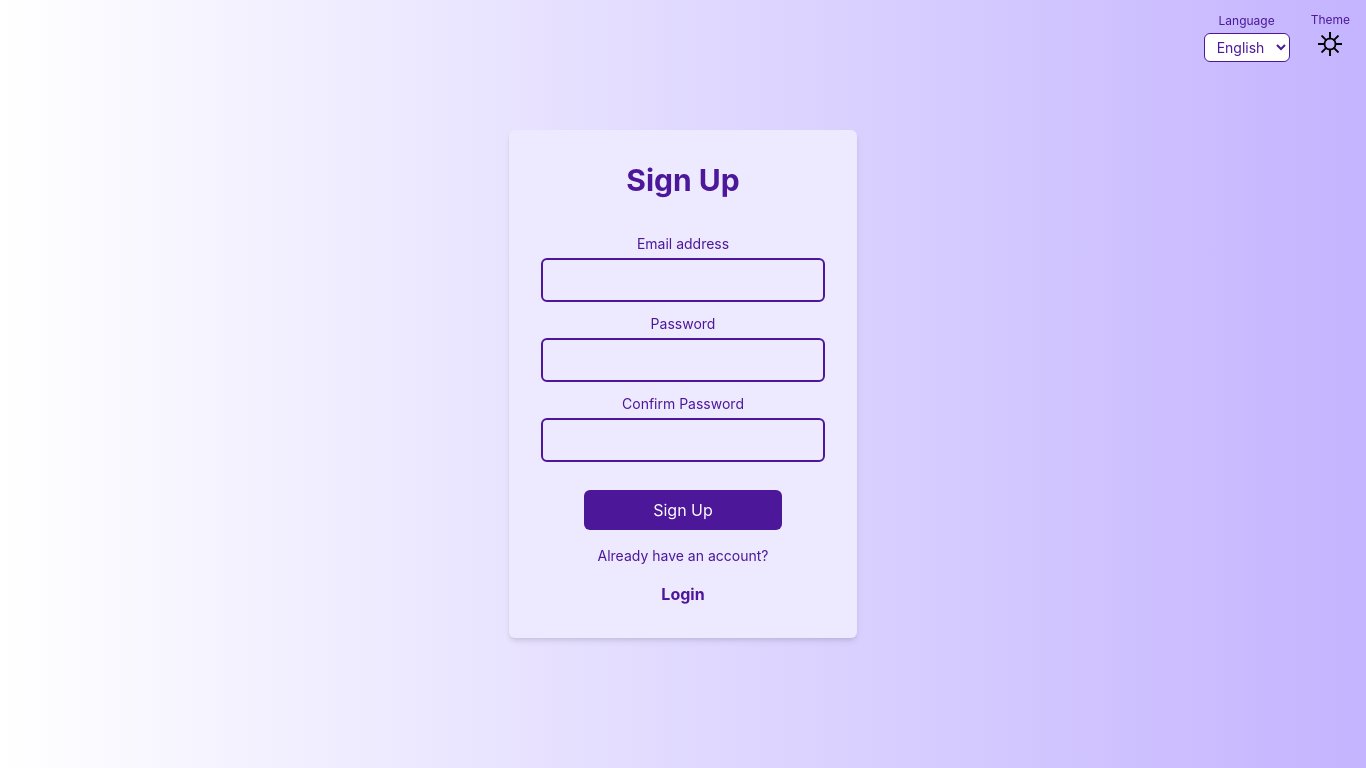
Test case: SignupPage tests › should display error when passwords do not match and button should be disabled
The width and height of the screenshot is (1366, 768).
Type "password123" into the password field labelled "Password" at (683, 360), box [541,338,825,382]
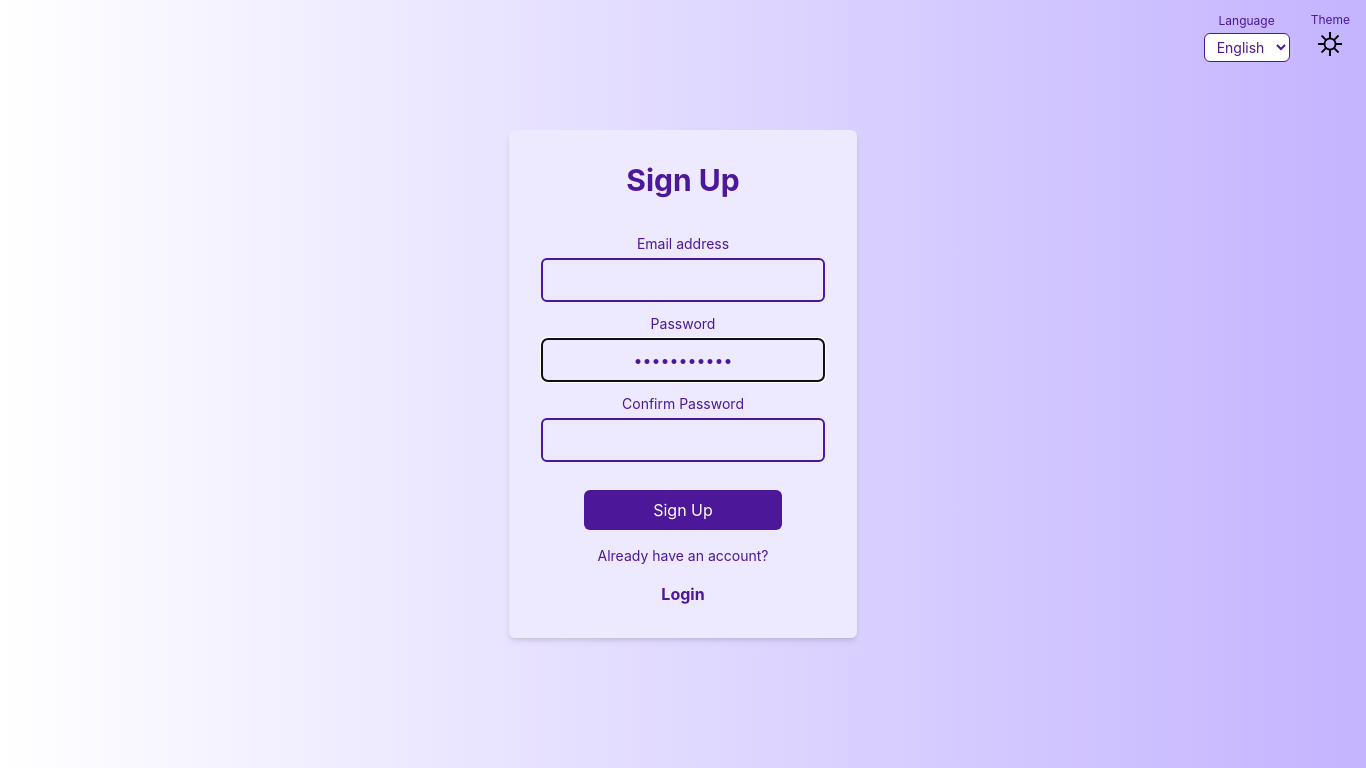
Type "password456" into the password field labelled "Confirm Password" at (683, 440), box [541,418,825,462]
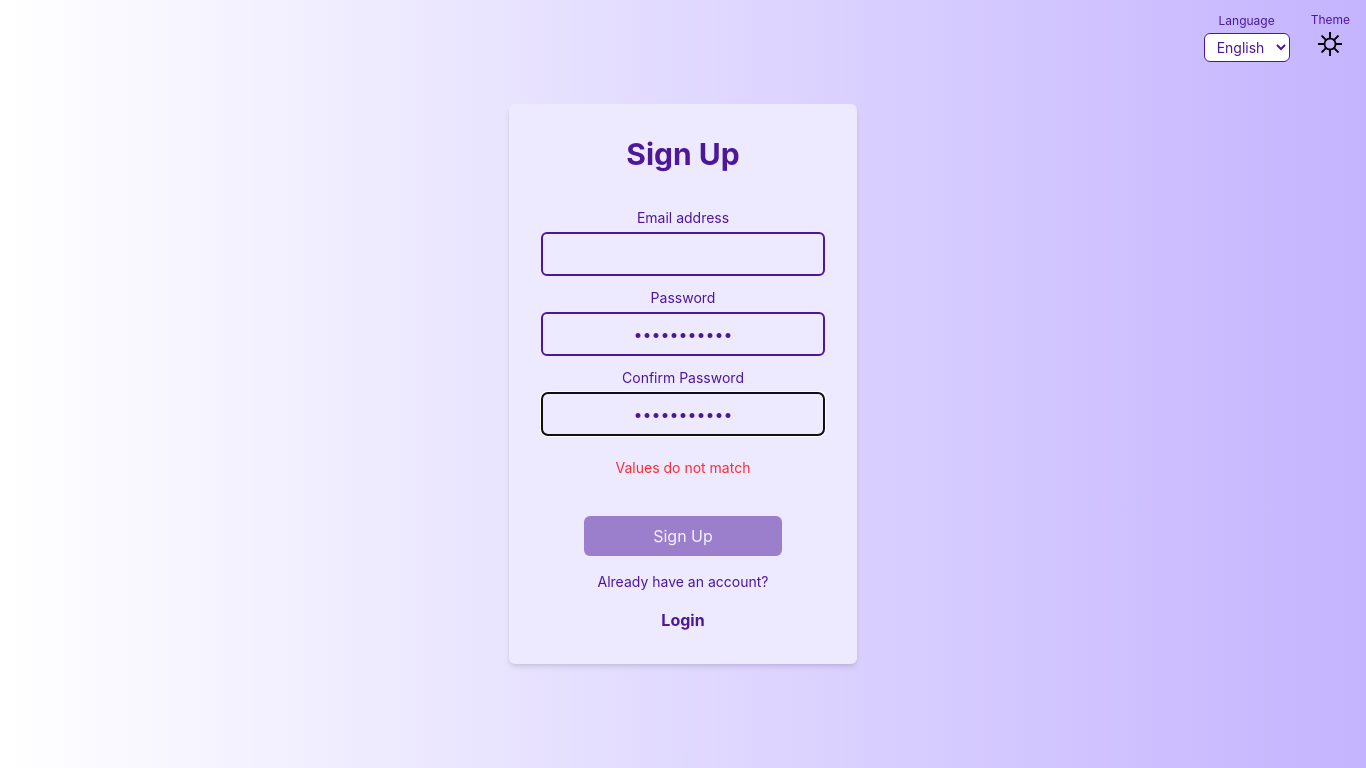
Check: the text "Values do not match" is shown, box [616,459,750,476]
Check: the button "Sign Up" is disabled, box [584,516,782,556]
